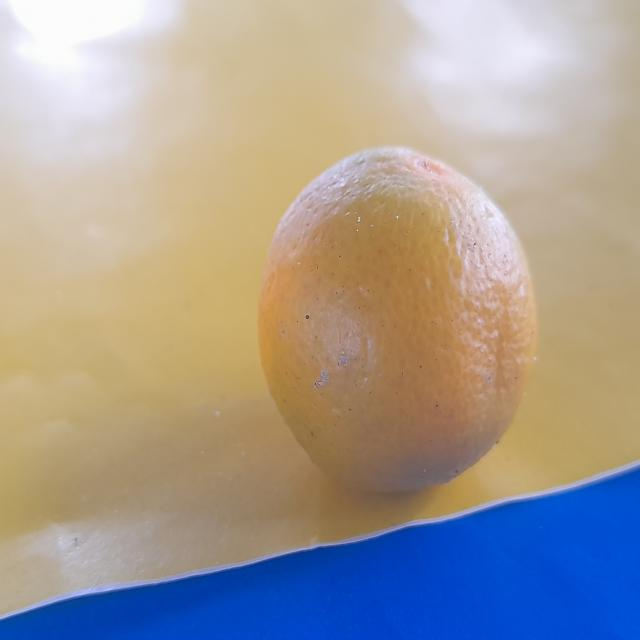greening: (250, 126, 547, 482)
